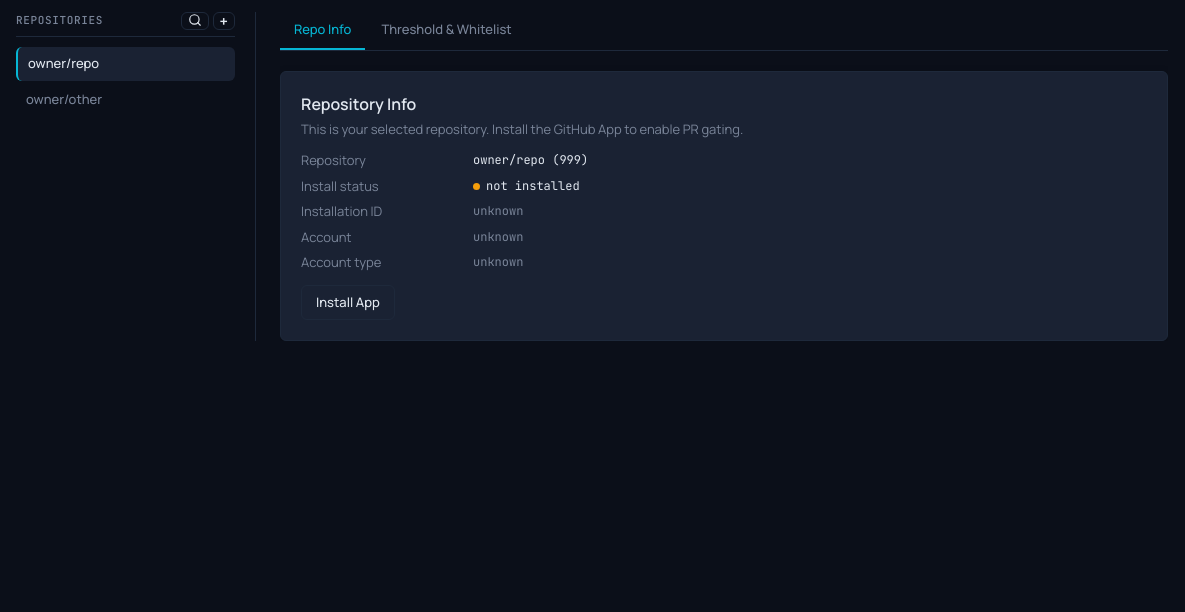
Scenario: OwnerPage flow › disables Save Config when app is not installed and shows helper text
Click the button "Threshold & Whitelist". click: [447, 31]
box: [367,12,526,50]
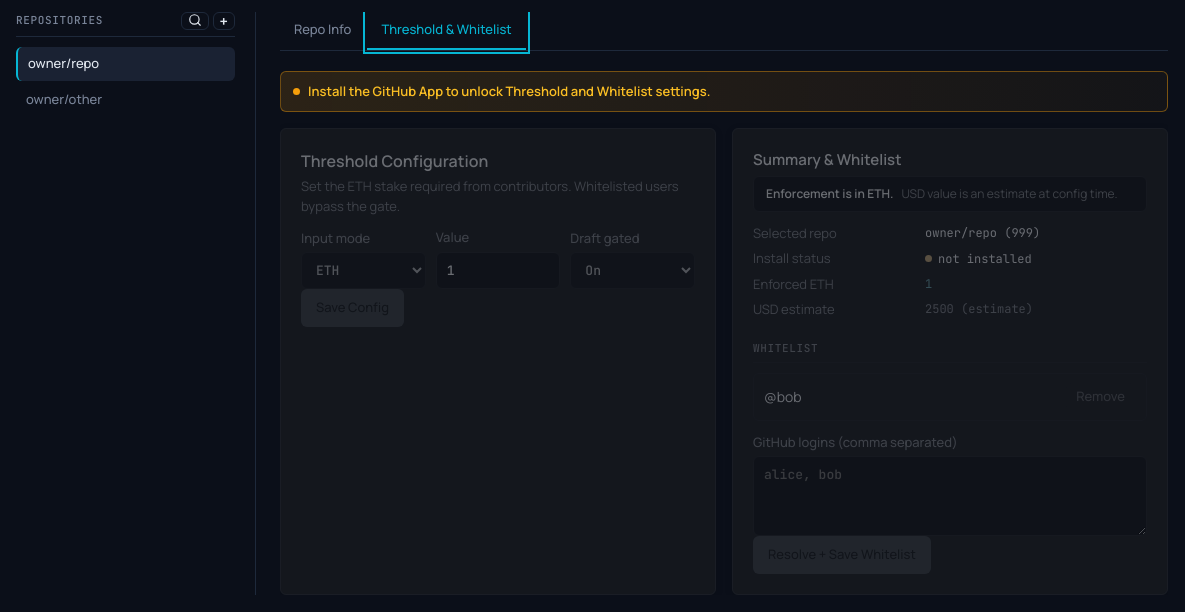
Check: the text "Install the GitHub App to unlock Threshold and Whitelist settings." is shown, box [280,70,1168,112]
